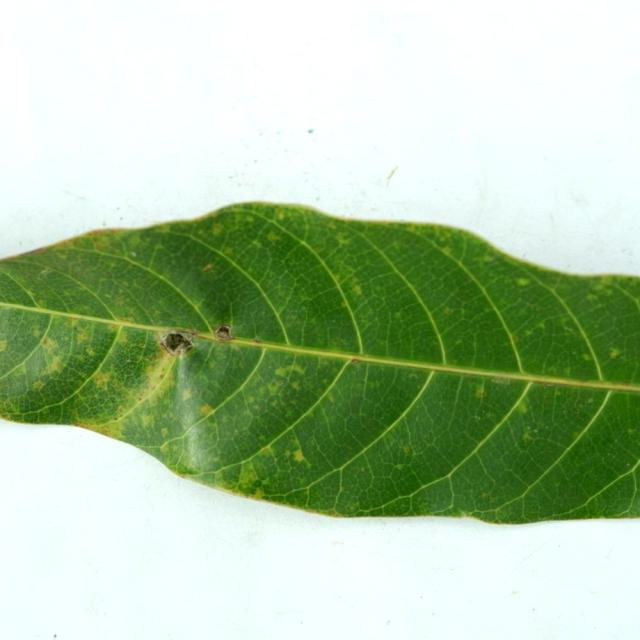Mango: (0, 204, 639, 523)
Powdery_Mildew: (272, 357, 314, 390), (243, 474, 278, 498), (237, 462, 262, 490), (40, 352, 67, 377), (6, 361, 29, 382), (41, 332, 60, 350), (75, 327, 92, 345), (93, 372, 110, 388), (92, 236, 111, 250), (268, 380, 284, 394), (140, 412, 154, 428), (292, 448, 306, 463), (516, 399, 530, 414), (296, 454, 311, 468), (260, 445, 275, 457), (335, 232, 350, 244), (100, 426, 116, 437), (490, 377, 511, 385), (211, 223, 223, 236), (200, 404, 213, 416), (266, 231, 280, 242), (299, 293, 313, 304), (593, 281, 608, 291), (609, 347, 622, 358), (182, 388, 193, 401), (39, 267, 53, 277), (475, 388, 487, 399), (521, 432, 534, 442), (516, 277, 530, 286), (160, 441, 170, 453), (108, 322, 121, 331), (352, 284, 362, 295), (85, 346, 96, 356), (33, 381, 44, 391), (586, 293, 599, 301), (0, 339, 8, 352), (207, 359, 217, 369), (327, 392, 336, 403), (202, 263, 213, 272), (459, 510, 473, 517), (536, 320, 546, 329), (277, 210, 286, 220), (136, 391, 145, 401), (582, 353, 593, 361), (442, 247, 453, 255), (223, 247, 234, 255), (442, 307, 452, 315), (524, 328, 534, 336), (161, 427, 169, 437), (253, 241, 263, 249), (340, 299, 349, 307), (541, 383, 555, 388), (70, 316, 81, 322), (394, 311, 402, 319), (247, 395, 255, 403), (403, 446, 411, 454), (510, 334, 518, 342), (41, 338, 49, 346), (395, 463, 404, 470), (627, 428, 636, 435), (409, 372, 418, 379), (253, 336, 262, 343), (74, 421, 84, 427), (482, 492, 490, 499), (117, 406, 124, 414), (123, 317, 132, 323), (350, 359, 360, 364), (284, 450, 291, 457), (259, 434, 266, 441), (359, 466, 366, 473), (587, 398, 594, 404), (139, 342, 146, 348), (159, 374, 164, 380), (534, 428, 538, 432)
